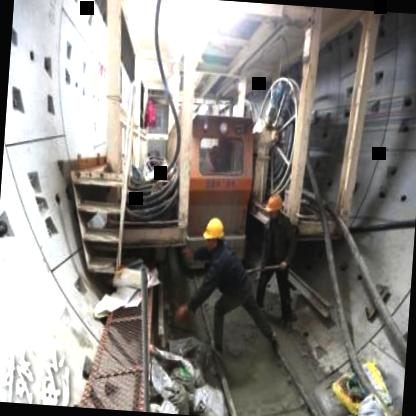helmet: (201, 214, 225, 256), (266, 192, 283, 220)
